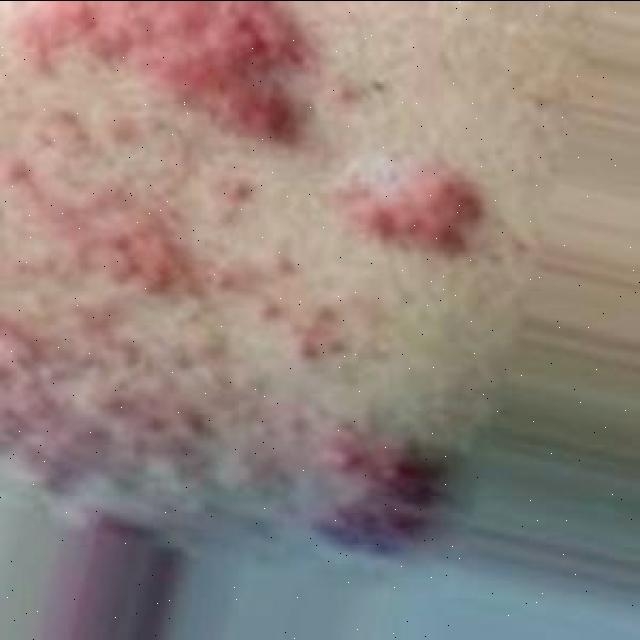Shingles: (0, 0, 482, 552)
